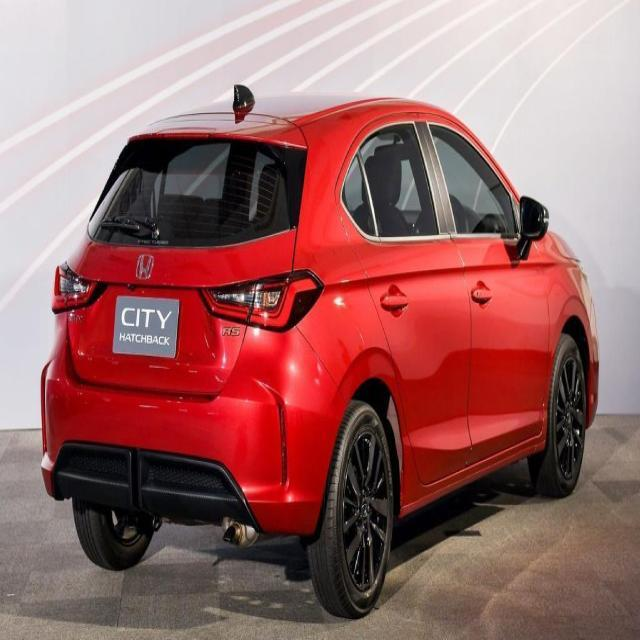Hatchback: (39, 87, 601, 621)
